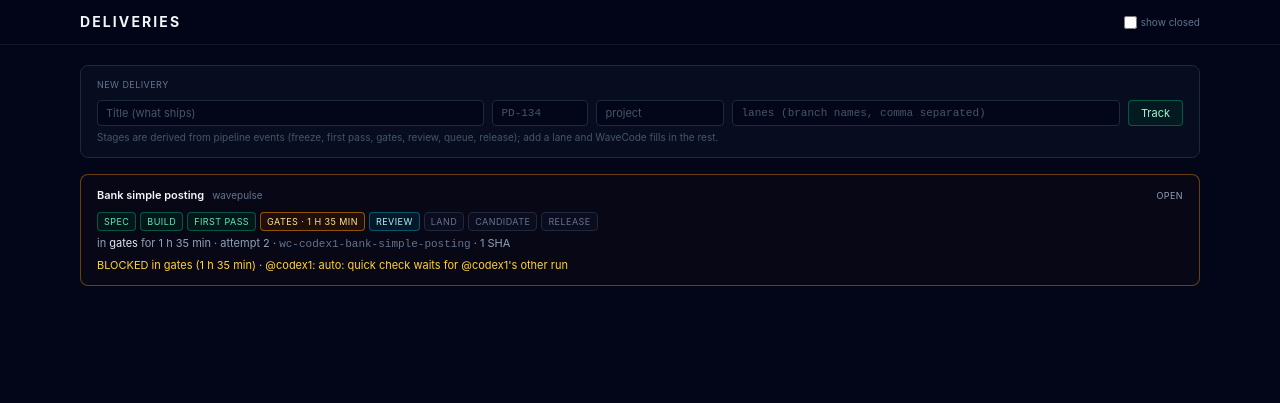
it: Deliveries › creates a delivery from the form and shows closed ones on request
The width and height of the screenshot is (1280, 403).
Expected: the text "Bank simple posting" is shown, [97,187,204,204]
Click the button with test id "delivery-submit" at (1155, 113), box [1128,100,1183,126]
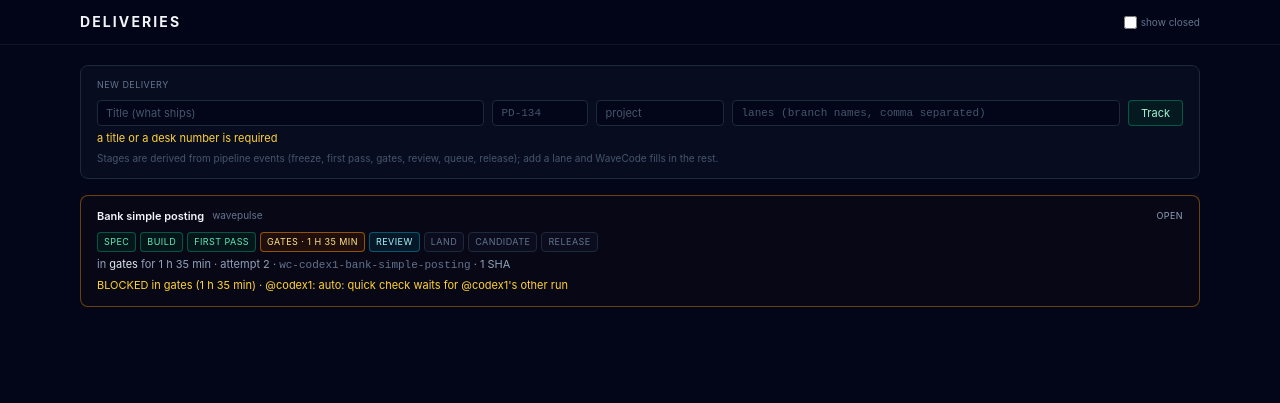
Now the text with test id "delivery-form-error" reads "a title or a desk number is required", box [97,131,278,145]
Type "Invoices" into the field with test id "delivery-title" at (291, 113), box [97,100,484,126]
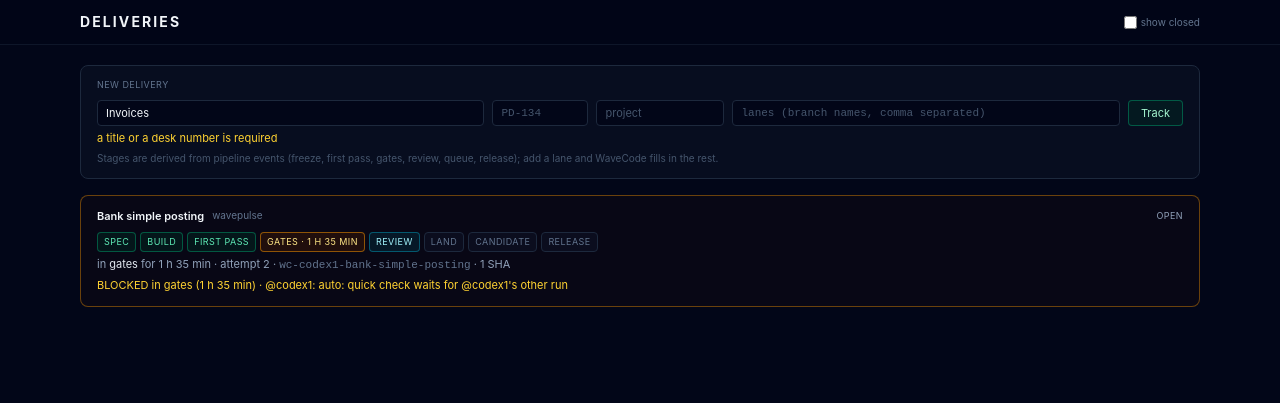
Type "wc-a-x, wc-b-y" into the field with test id "delivery-lanes" at (926, 113), box [732,100,1120,126]
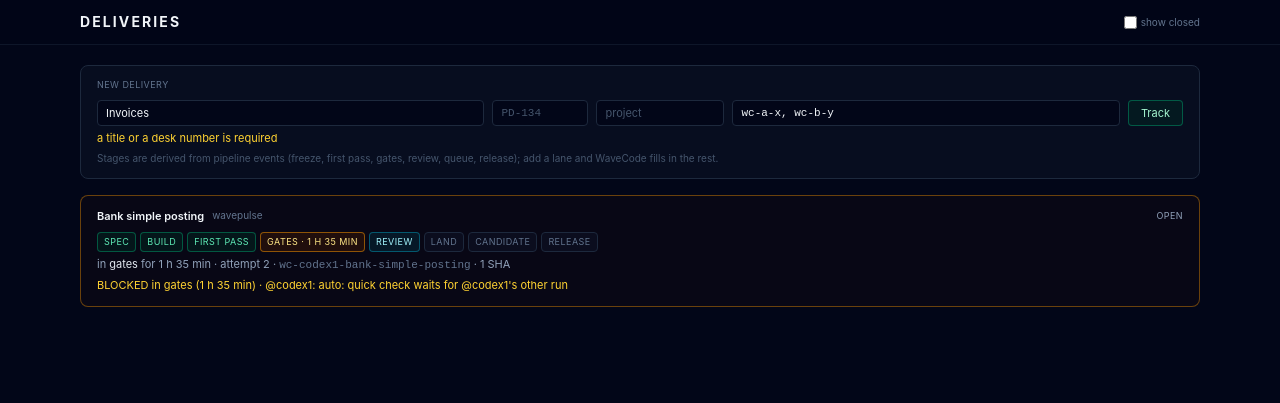
Click the button with test id "delivery-submit" at (1155, 113), box [1128,100,1183,126]
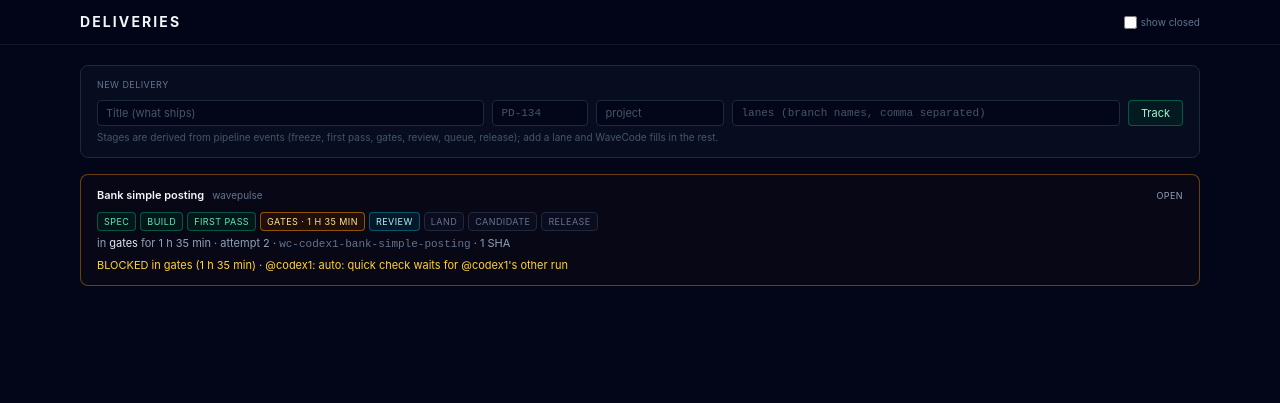
Click the checkbox with test id "deliveries-show-all" at (1130, 22), box [1124,16,1137,28]
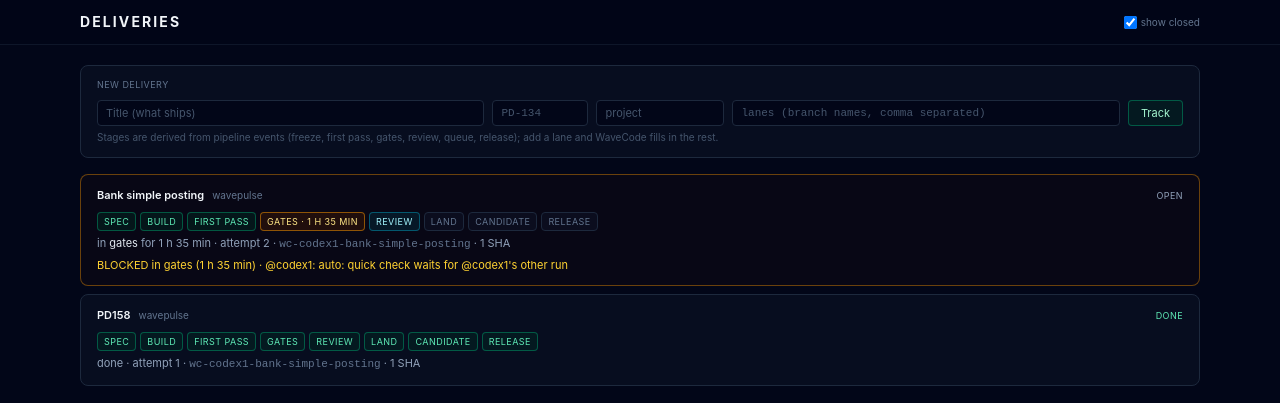
Now the text "PD158" is shown, box [97,307,130,324]
Now the text with test id "delivery-status-d2" reads "done", box [1156,310,1183,320]
